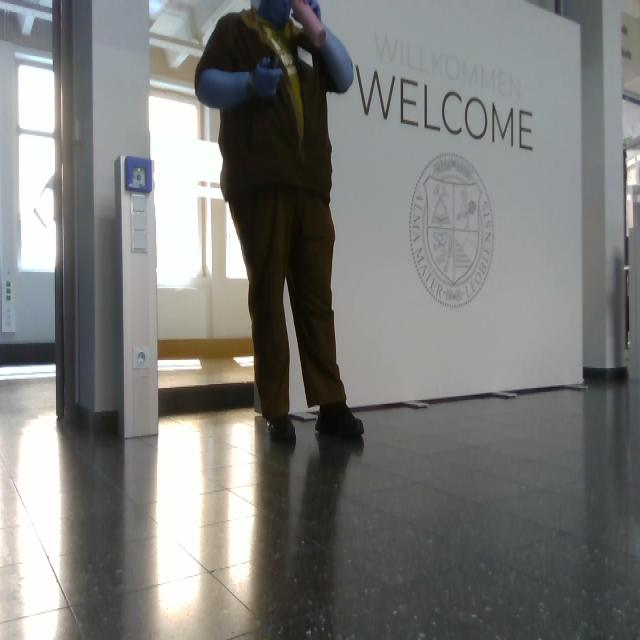door: (117, 154, 160, 440)
light bulb: (33, 173, 57, 229), (255, 1, 293, 30), (21, 10, 36, 36)
person: (194, 1, 365, 444)
pillar: (53, 1, 160, 438)
tiled floor: (2, 372, 639, 638)
